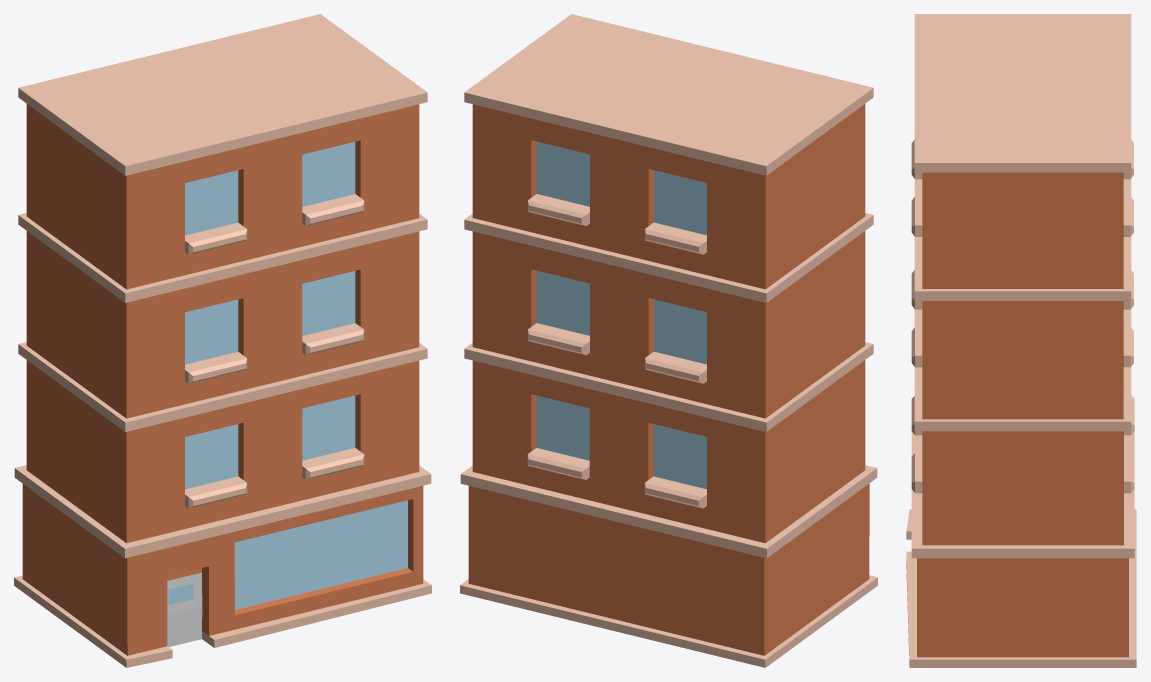
File: storeD.fbx
The picture shows the model from 3 angles, left to right: view 1: azimuth 30°, elevation 25°; view 2: azimuth 150°, elevation 25°; view 3: azimuth 270°, elevation 25°; orthographic projection.
Visible parts, largest first — view 1: StoreD; view 2: StoreD; view 3: StoreD.
Part boxes in pixels (left/top/right/bottom): StoreD: left=14, top=14, right=431, bottom=667; StoreD: left=460, top=14, right=877, bottom=667; StoreD: left=906, top=14, right=1136, bottom=667.
Size of the model in its own units: 1671 by 2604 by 1077.
